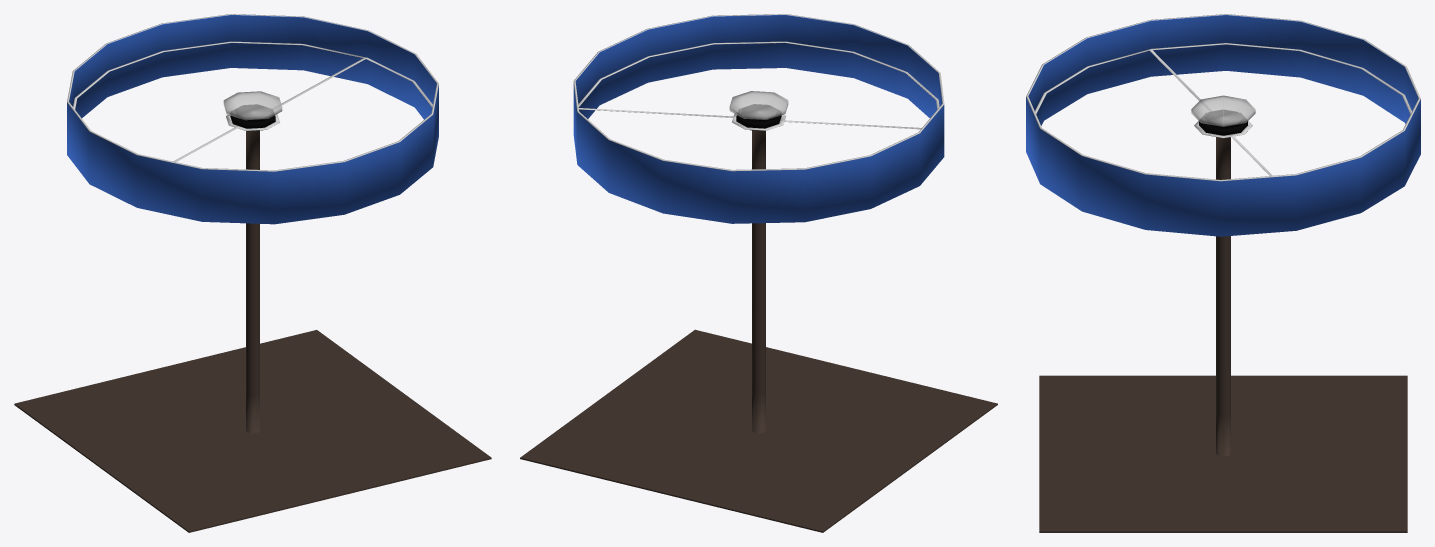
The model's file is blue-stand.fbx.
The picture shows the model from 3 angles, left to right: view 1: azimuth 30°, elevation 25°; view 2: azimuth 150°, elevation 25°; view 3: azimuth 270°, elevation 25°; orthographic projection. The views are drawn at different scales.
Parts seen in each view (by area): view 1: FloorLamp_Mesh.export; view 2: FloorLamp_Mesh.export; view 3: FloorLamp_Mesh.export.
Part boxes in pixels (x1,y1,x2,y2): FloorLamp_Mesh.export: [14, 14, 491, 532]; FloorLamp_Mesh.export: [520, 14, 997, 532]; FloorLamp_Mesh.export: [1026, 14, 1420, 532].
Bounding box in the file's own units: 100 × 100 × 100.
